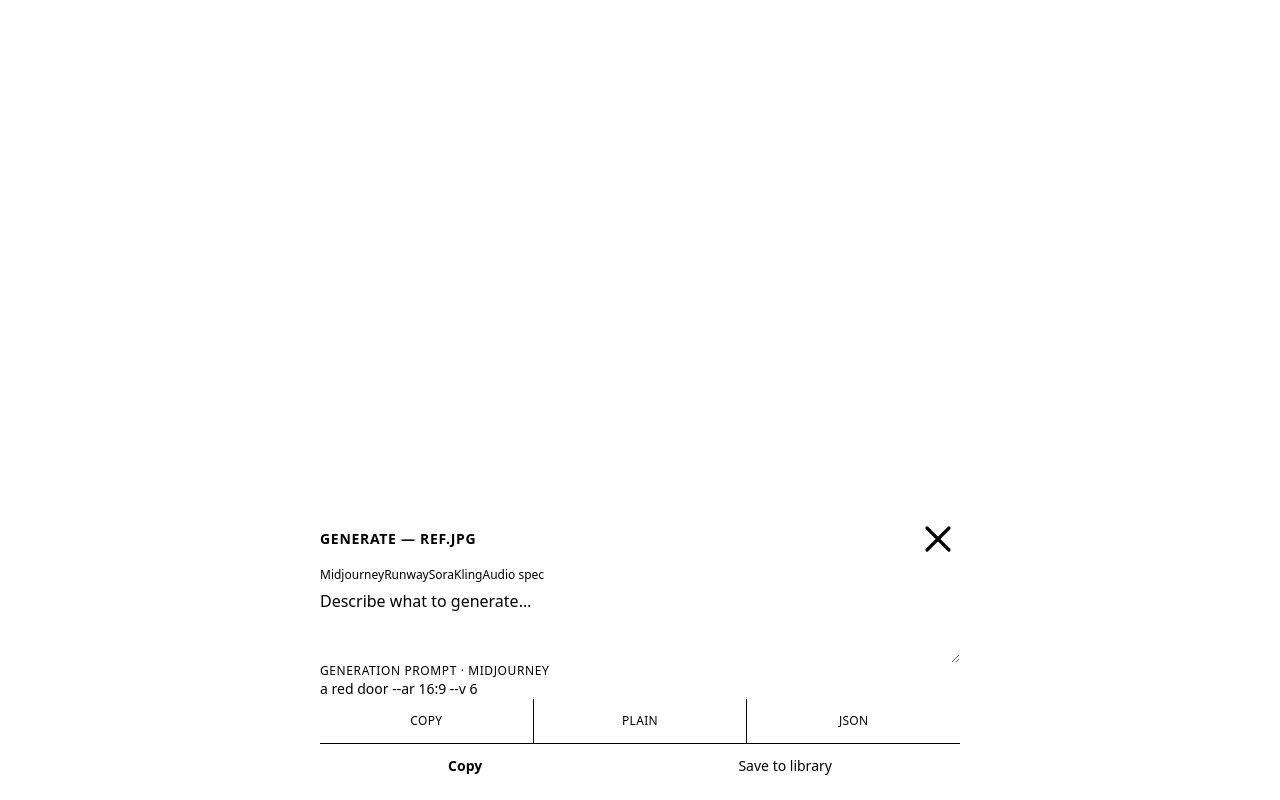
Test: save-with-outbox — GenerateSheet › an online failure reports the sheet's error copy
Click the button "Save to library" at (785, 766), box [610,744,960,788]
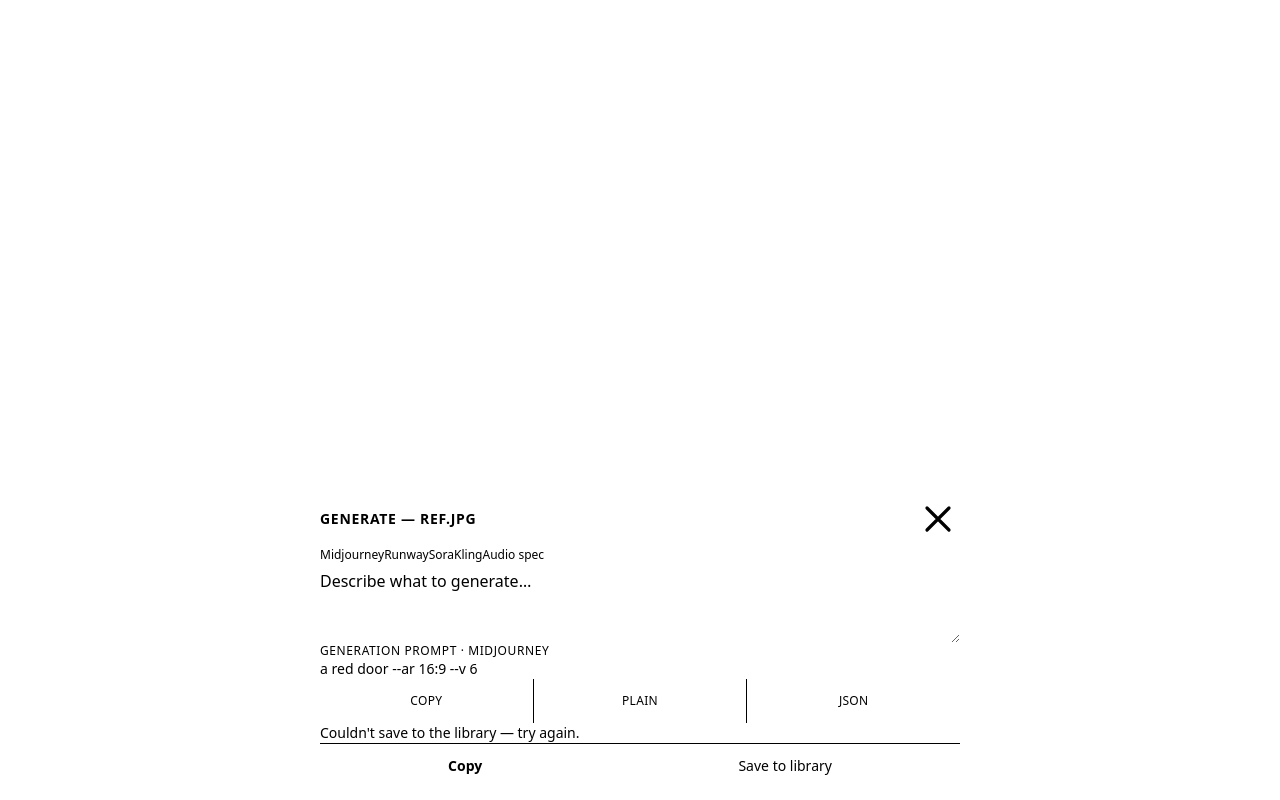
Expected: the text "Couldn't save to the library — try again." is shown, [320,723,580,742]
